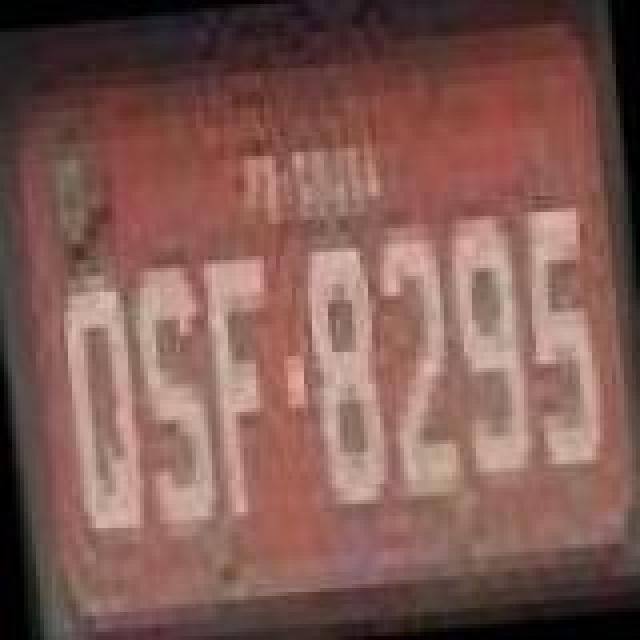2: (372, 220, 468, 504)
5: (516, 198, 612, 482)
8: (296, 240, 392, 512)
9: (442, 214, 534, 486)
F: (202, 246, 298, 526)
Q: (58, 276, 154, 540)
S: (130, 254, 226, 534)
